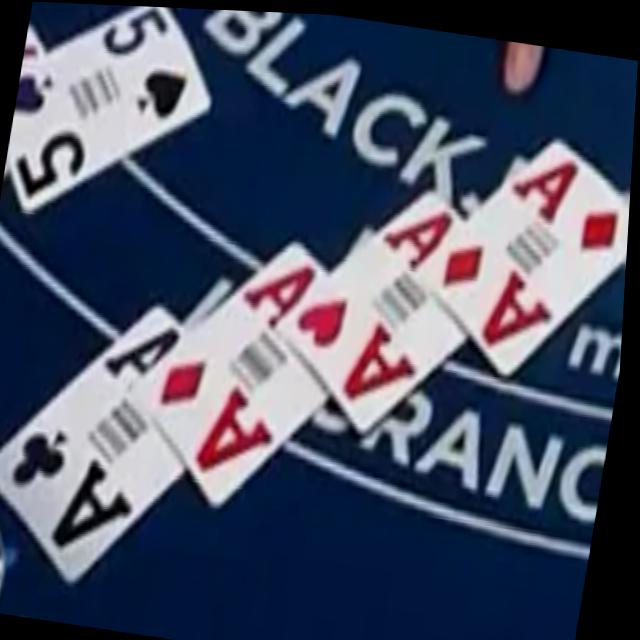Card-5: (10, 5, 212, 216)
Card-A: (0, 299, 192, 584), (138, 232, 336, 505), (427, 126, 631, 369), (287, 182, 472, 433)
